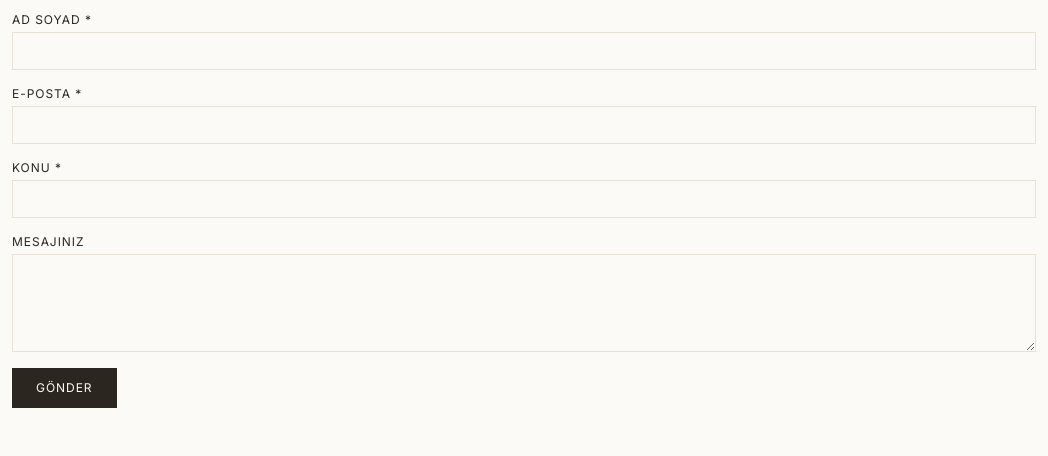
Test: ContactForm › shows an error message when the request fails
The image size is (1048, 456).
Type "Test Kullanıcı" into the field labelled "Ad Soyad *". click: coordinates (524, 51)
box: 12,32 -> 1036,70
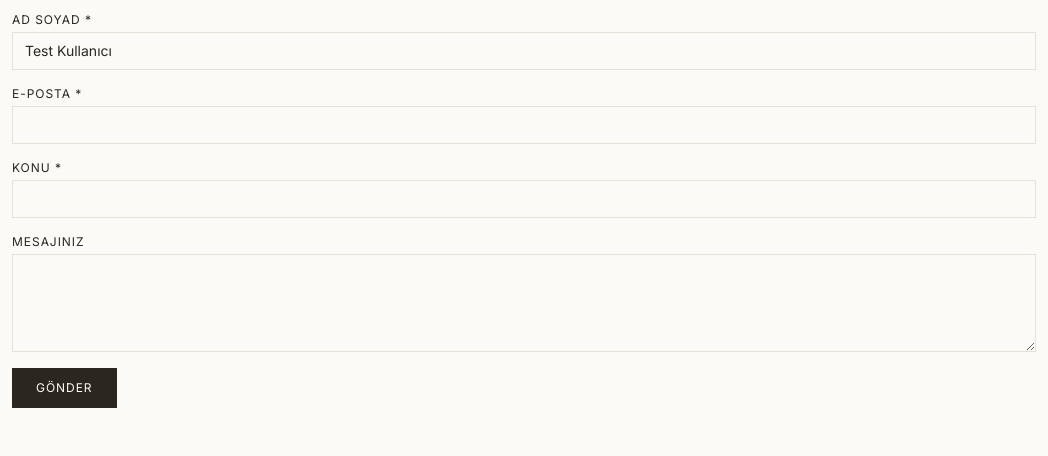
Type "test@example.com" into the field labelled "E-posta *". click: coordinates (524, 125)
box: 12,106 -> 1036,144
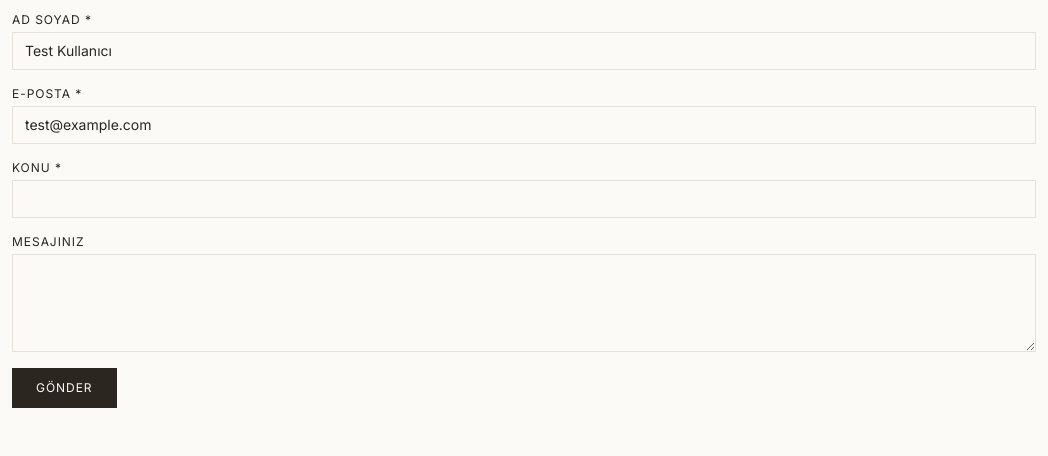
Type "Bilgi talebi" into the field labelled "Konu *". click: coordinates (524, 199)
box: 12,180 -> 1036,218
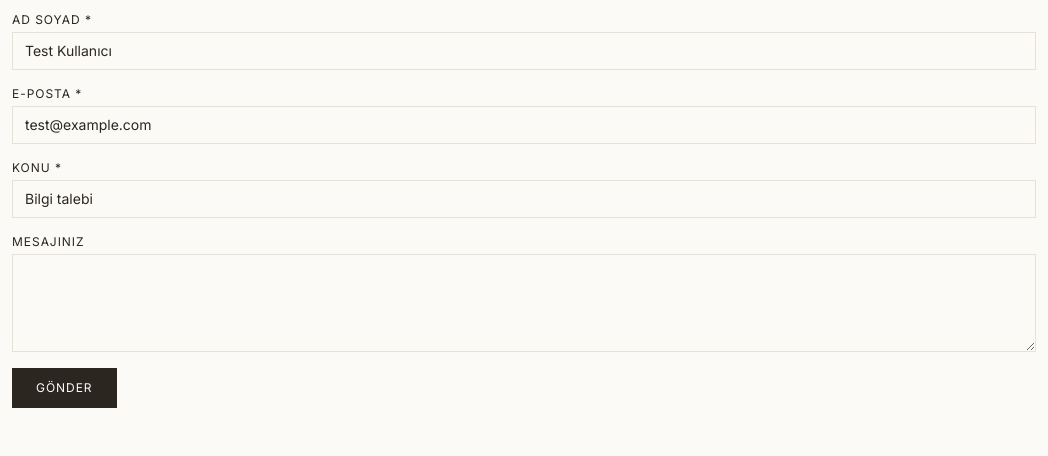
Click the button "Gönder". click: coordinates (64, 388)
box: 12,368 -> 116,408
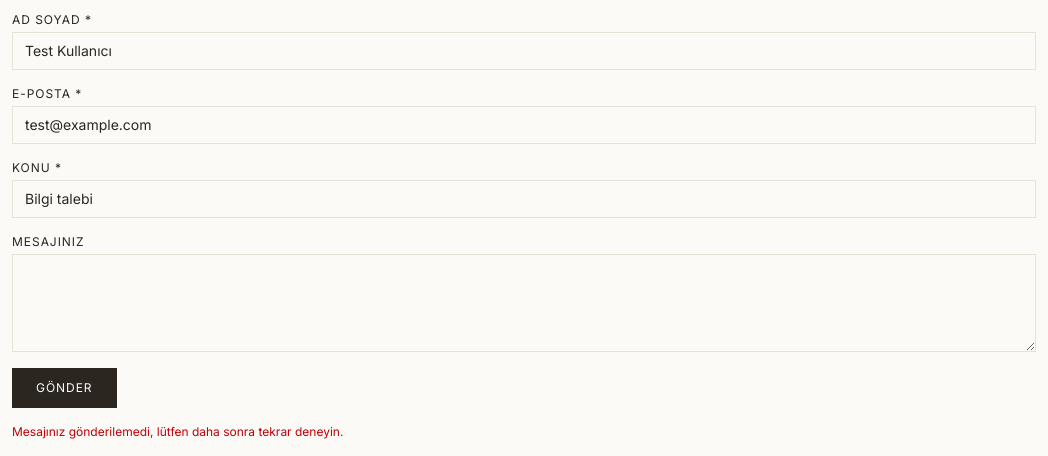
expect the text "Mesajınız gönderilemedi, lütfen daha sonra tekrar deneyin." is shown: met, box 12,424 -> 343,439
